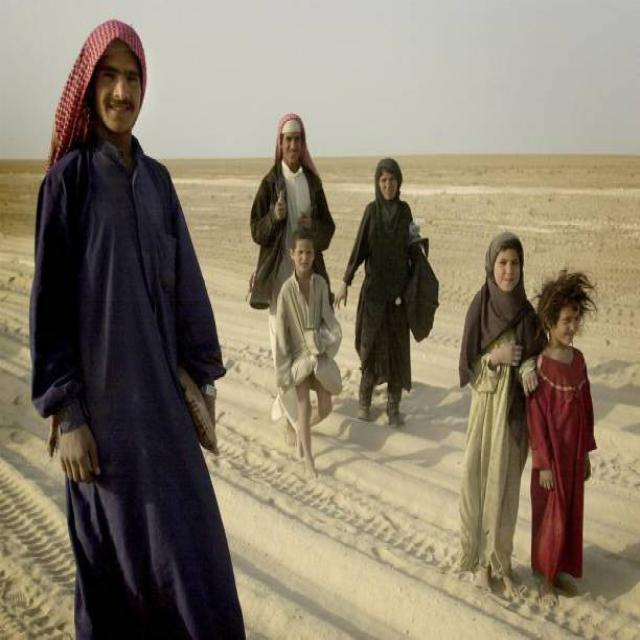civilian: (29, 21, 245, 639), (459, 232, 540, 588), (336, 158, 438, 425), (527, 271, 596, 585), (270, 221, 342, 475), (250, 113, 335, 315)
